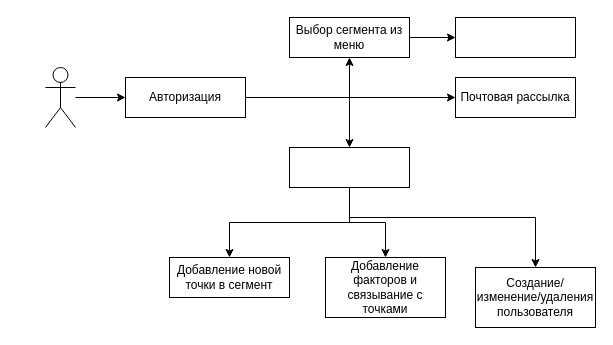
Image size: 613x345. Some labels were removed from this diagram. Here are the shapes that lost their labels. From the top down, the box of each, then its label:
(454, 16, 576, 58): Просомтр сегмента и его факторов
(44, 66, 76, 128): Администратор
(288, 146, 410, 188): Переход в админ-панель
